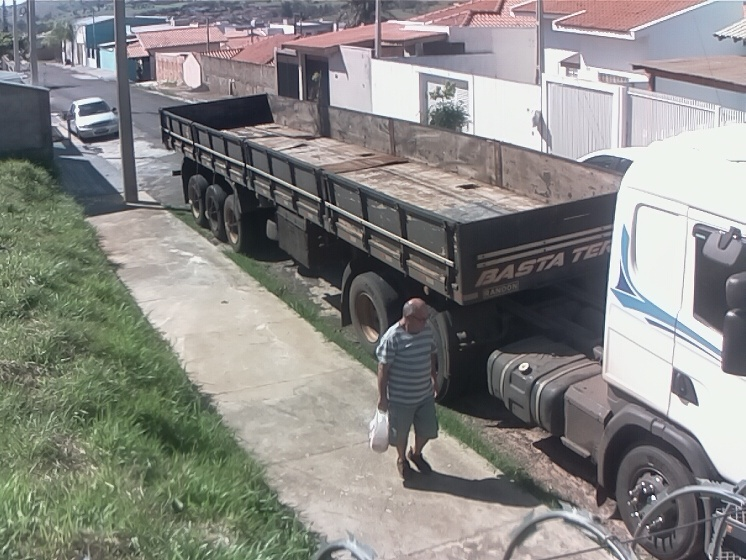person: (376, 297, 448, 483)
